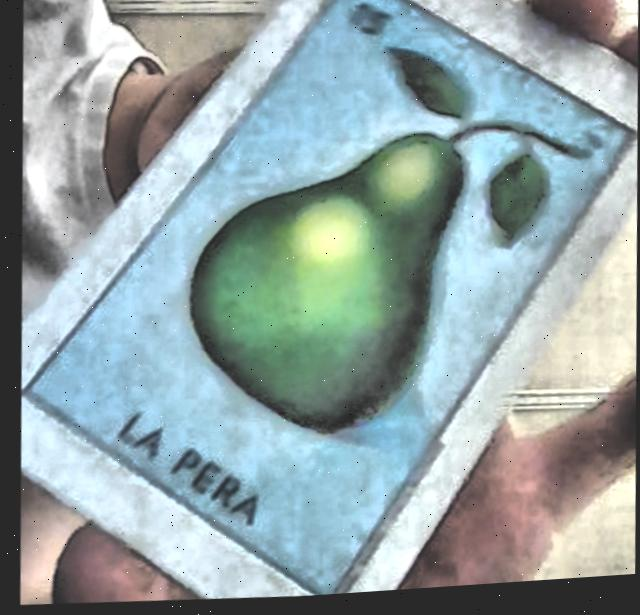La Pera: (28, 0, 632, 599)
